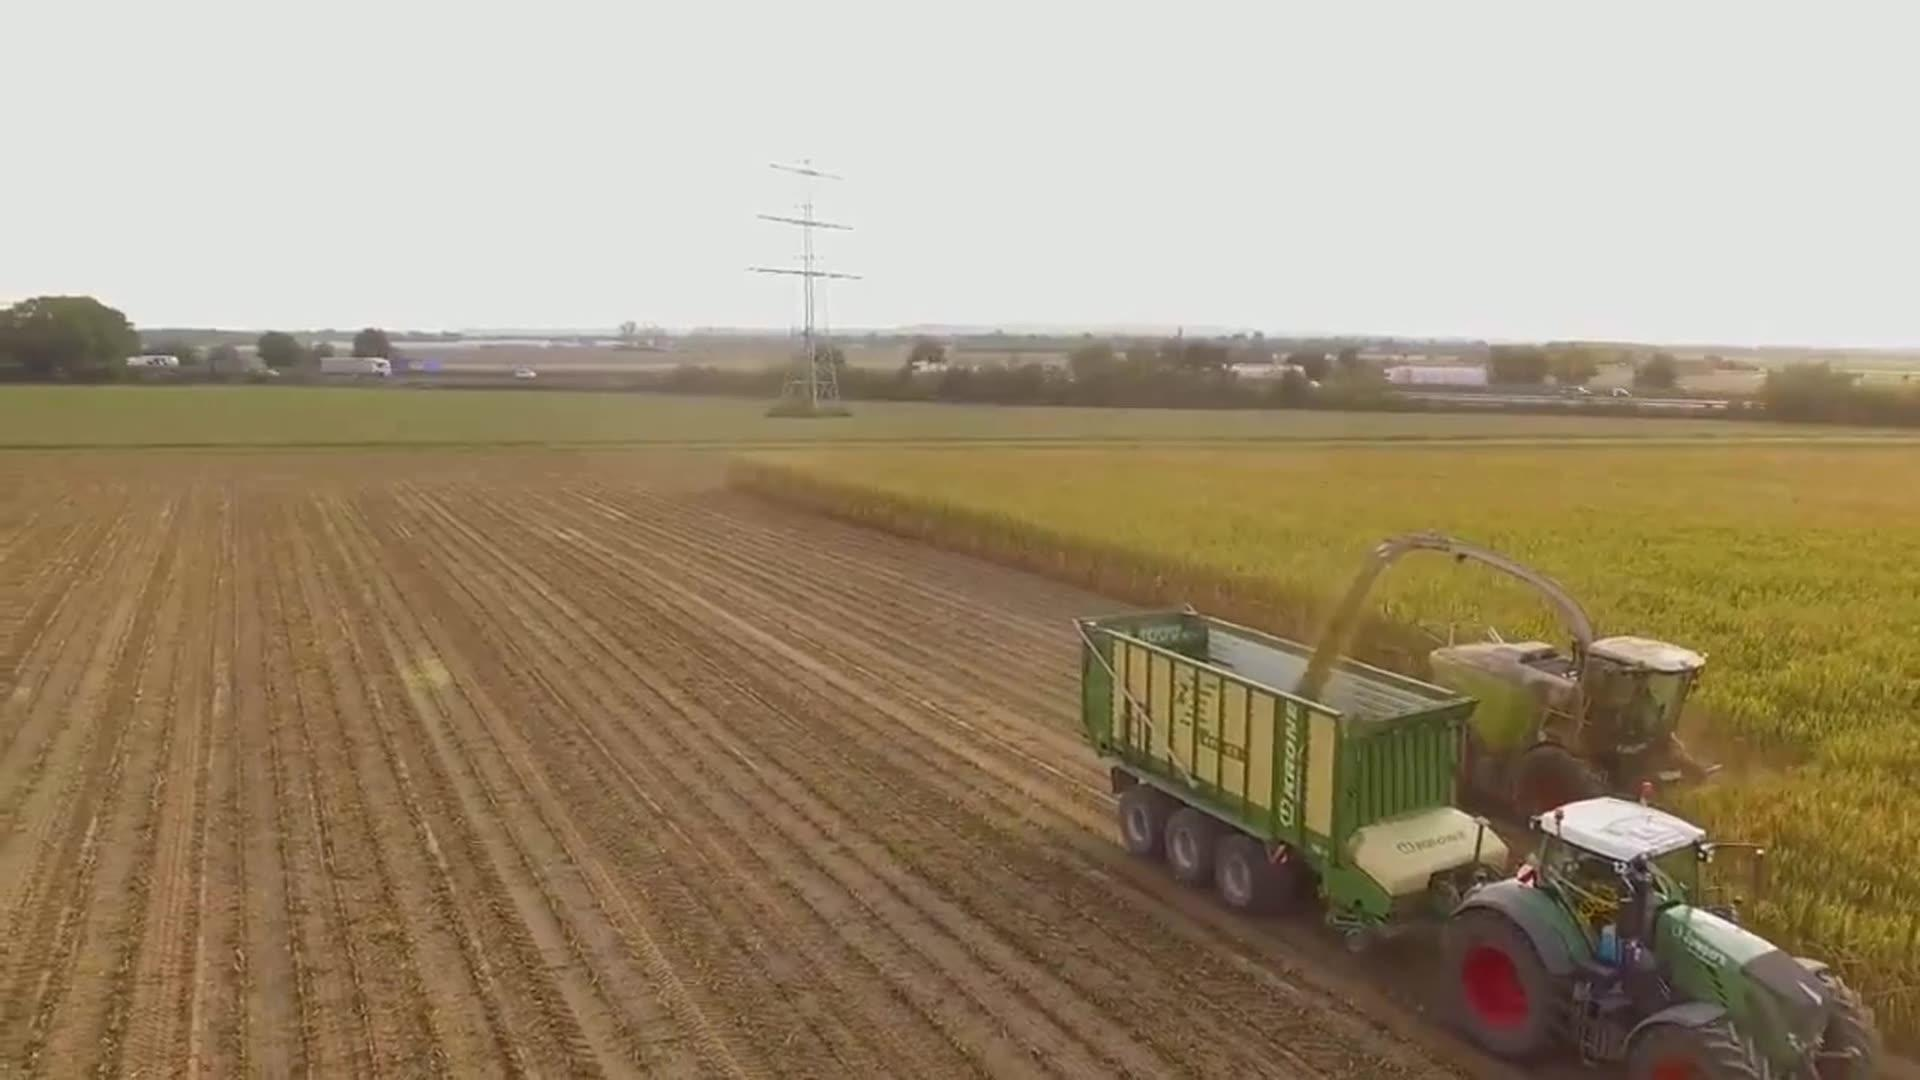combine harvester: (1367, 514, 1737, 845)
tractor: (1414, 770, 1887, 1080)
trailer: (1068, 570, 1515, 963)
